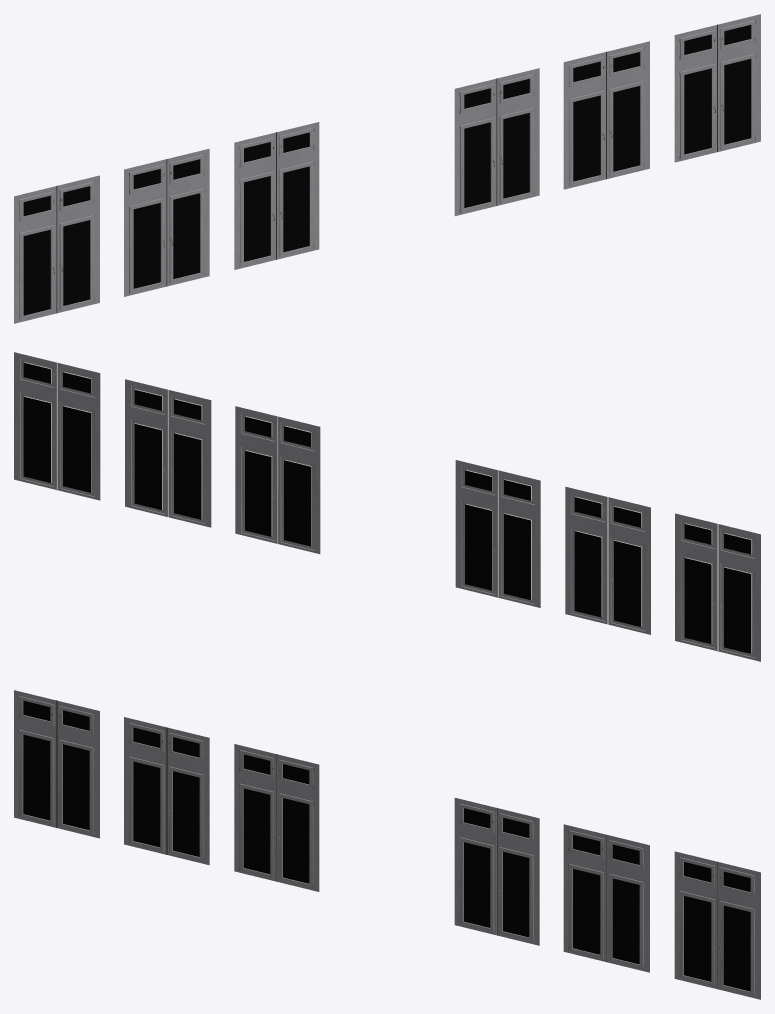
File: windows_without_4.dae
3 views of the same model, one above another, from view 1: azimuth 30°, elevation 25°; view 2: azimuth 150°, elevation 25°; view 3: azimuth 330°, elevation 25° (orthographic).
Parts seen in each view (by area): view 1: SM_Window_06, SM_Window_07, SM_Window_02, SM_Window_01, SM_Window_03, SM_Window_05; view 2: SM_Window_07, SM_Window_06, SM_Window_02, SM_Window_01, SM_Window_05, SM_Window_03; view 3: SM_Window_06, SM_Window_07, SM_Window_02, SM_Window_01, SM_Window_05, SM_Window_03.
Boxes of the visible parts, x1,y1,x2,y2 form: SM_Window_06: (563,41,649,189); SM_Window_07: (674,14,760,162); SM_Window_02: (124,148,209,296); SM_Window_01: (14,175,99,323); SM_Window_03: (234,122,319,269); SM_Window_05: (454,68,539,215); SM_Window_07: (14,352,100,500); SM_Window_06: (125,379,211,527); SM_Window_02: (565,486,650,634); SM_Window_01: (675,513,760,661); SM_Window_05: (235,406,320,553); SM_Window_03: (455,460,540,607); SM_Window_06: (563,824,649,972); SM_Window_07: (674,851,760,999); SM_Window_02: (124,717,209,865); SM_Window_01: (14,690,99,838); SM_Window_05: (454,798,539,945); SM_Window_03: (234,744,319,891).
Bounding box in the file's own units: 18.66 × 0.0875 × 3.04.
4 materials, 1 textured.
